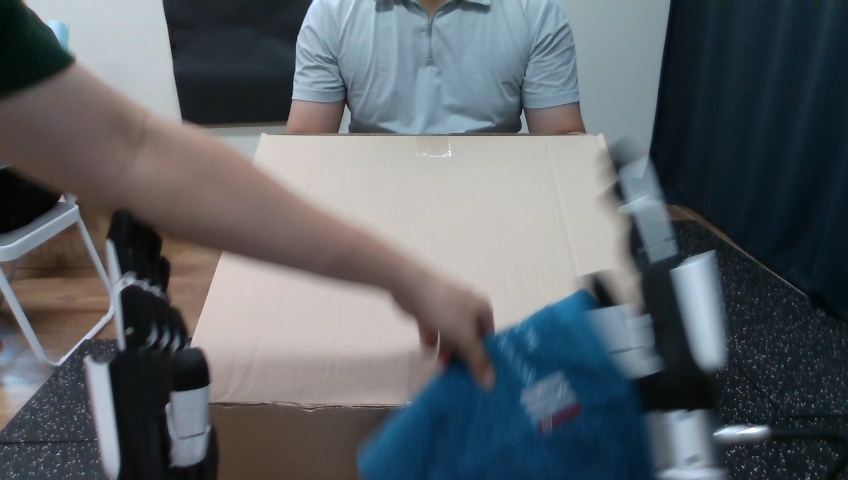left robot hand: (85, 210, 217, 479)
